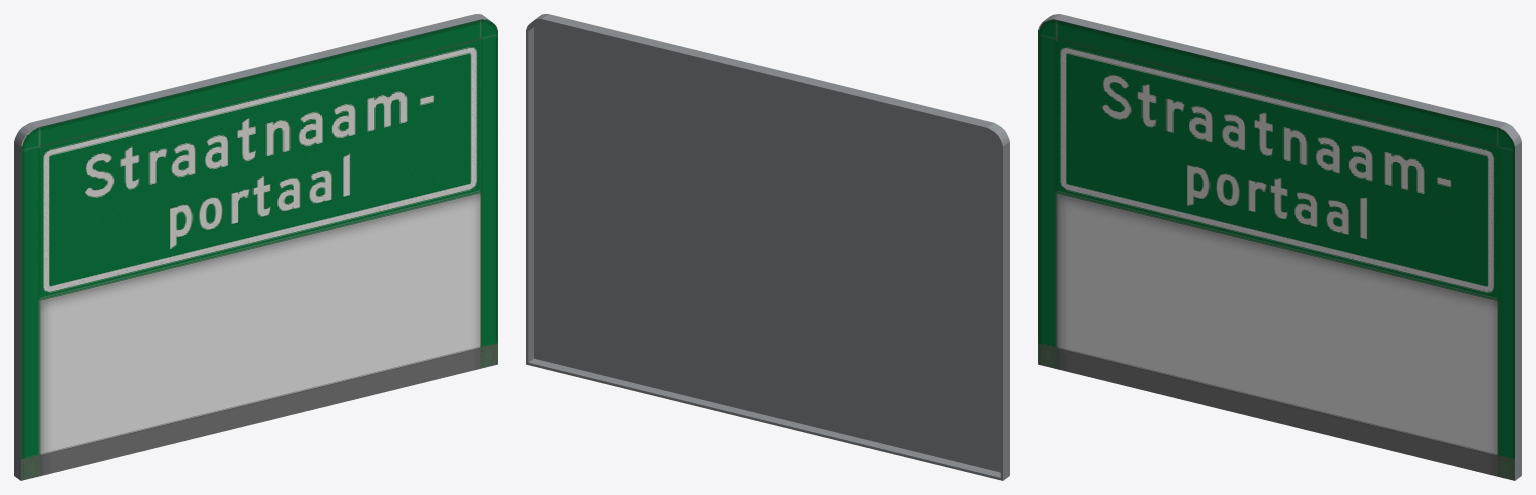
The picture shows the model from 3 angles, left to right: view 1: azimuth 30°, elevation 25°; view 2: azimuth 150°, elevation 25°; view 3: azimuth 330°, elevation 25°; orthographic projection.
Visible parts, largest first — view 1: cat_1062ae5eb8a1a94f; view 2: cat_1062ae5eb8a1a94f; view 3: cat_1062ae5eb8a1a94f.
Part boxes in pixels (x1,y1,x2,y2): cat_1062ae5eb8a1a94f: (14, 14, 497, 480); cat_1062ae5eb8a1a94f: (526, 14, 1009, 480); cat_1062ae5eb8a1a94f: (1038, 14, 1521, 480).
Size of the model in its own units: 0.6 by 0.015 by 0.4199.
2 materials, 1 textured.
